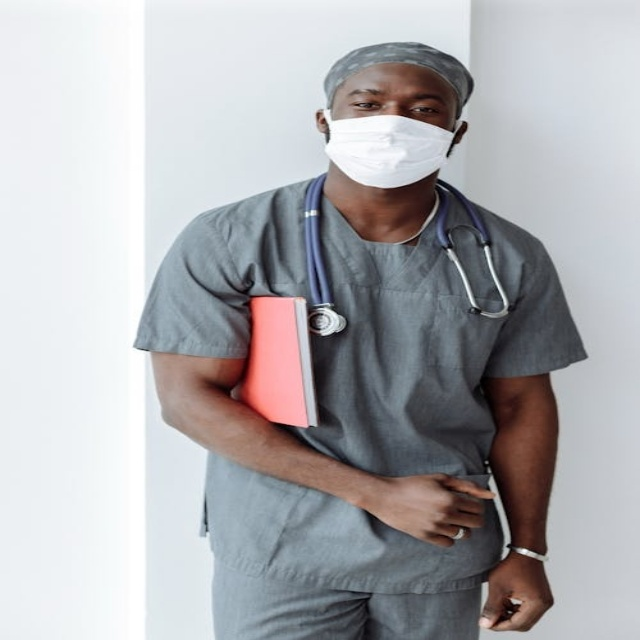Mascara: (321, 111, 455, 187)
Sin_gafas: (340, 84, 451, 117)
Sin_guantes: (362, 472, 500, 551), (480, 550, 561, 635)
